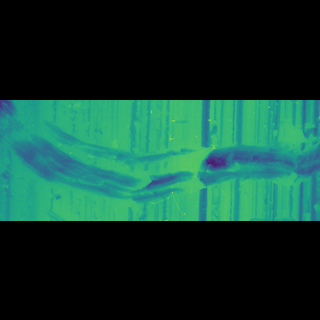Loch: (3, 141, 320, 178), (0, 136, 29, 147), (42, 176, 70, 183)
